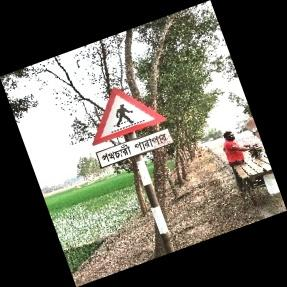Pedestrian-crossing: (91, 87, 172, 169)
